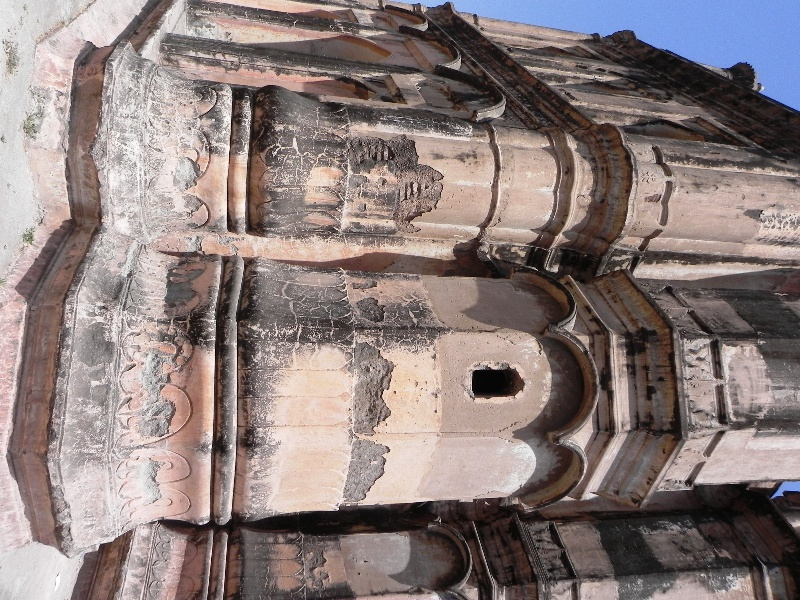Exposed Bricks: (352, 135, 396, 165)
Spalling: (343, 276, 394, 507)
